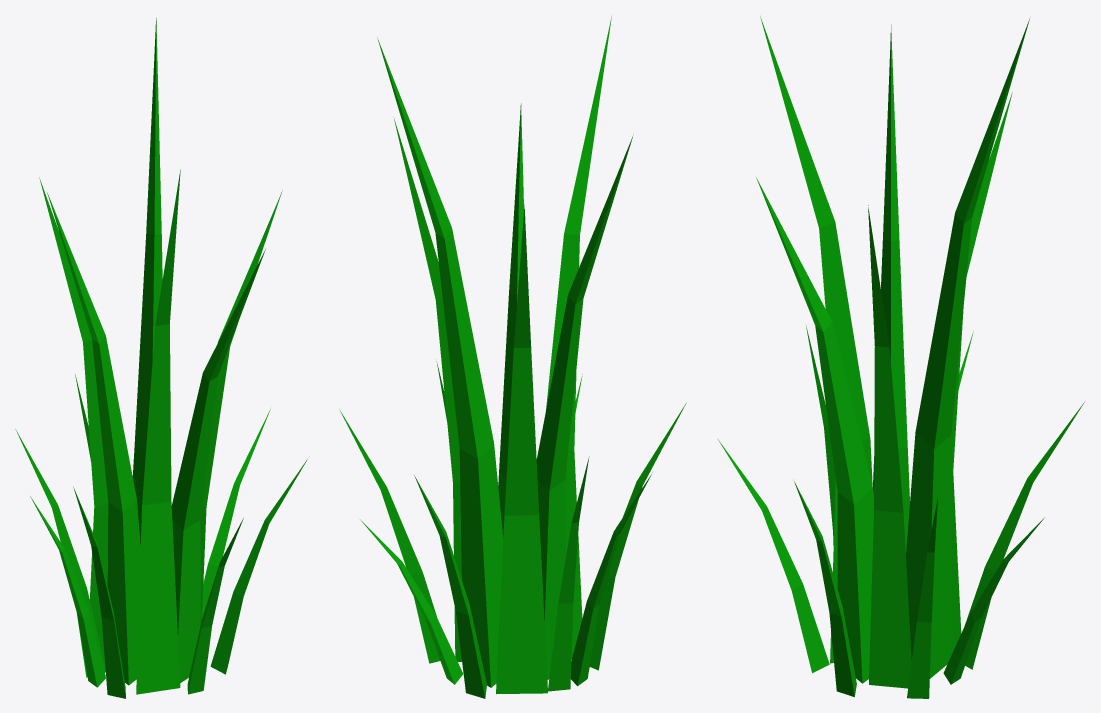
The model's file is WaterGrass1.fbx.
The picture shows the model from 3 angles, left to right: view 1: azimuth 30°, elevation 25°; view 2: azimuth 150°, elevation 25°; view 3: azimuth 270°, elevation 25°; orthographic projection. The views are drawn at different scales.
Visible parts, largest first — view 1: WaterGrassMesh1; view 2: WaterGrassMesh1; view 3: WaterGrassMesh1.
Part boxes in pixels (bbox=[...]): WaterGrassMesh1: bbox=[15, 18, 307, 698]; WaterGrassMesh1: bbox=[340, 16, 686, 698]; WaterGrassMesh1: bbox=[718, 16, 1084, 698].
Bounding box in the file's own units: 92.14 × 200 × 97.8.
